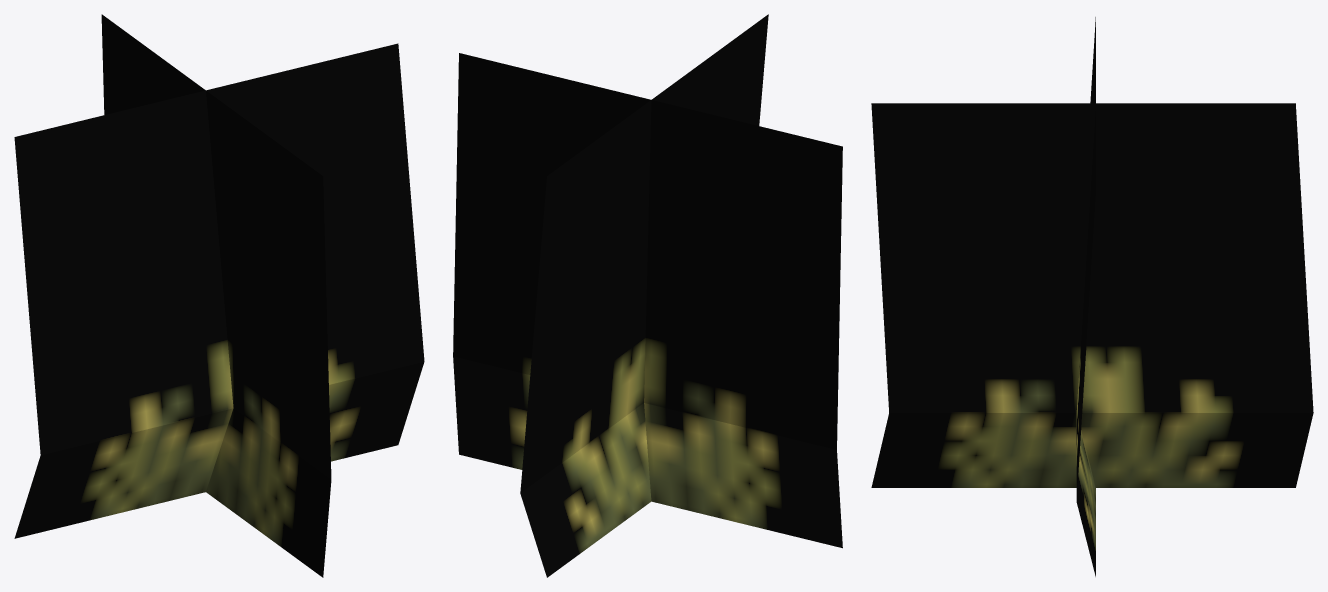
Rendered from grass_02.fbx.
The picture shows the model from 3 angles, left to right: view 1: azimuth 30°, elevation 25°; view 2: azimuth 150°, elevation 25°; view 3: azimuth 270°, elevation 25°; orthographic projection. The views are drawn at different scales.
Parts seen in each view (by area): view 1: grass_02; view 2: grass_02; view 3: grass_02.
Boxes of the visible parts, <box> form: grass_02: <box>14,14,424,577</box>; grass_02: <box>453,14,842,577</box>; grass_02: <box>871,17,1313,576</box>.
Bounding box in the file's own units: 208 × 200 × 208.
1 material, 1 textured.
